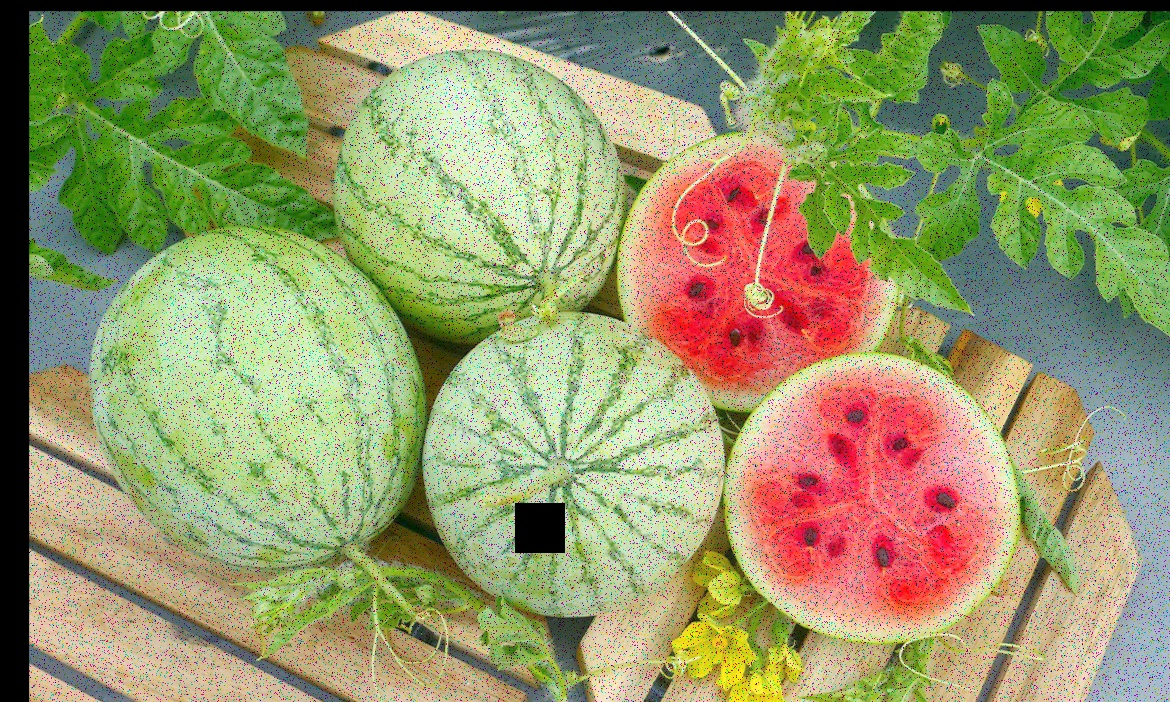watermelon: (86, 234, 424, 571), (429, 309, 725, 632), (324, 49, 622, 328)
